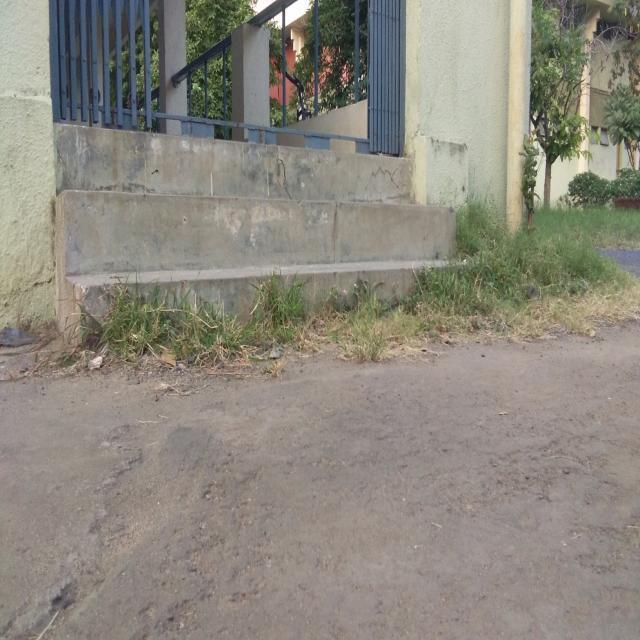stairs: (52, 122, 460, 344)
